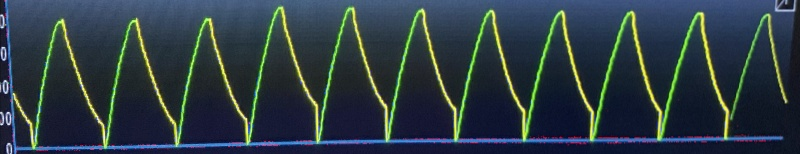leakage: (25, 0, 734, 146)
